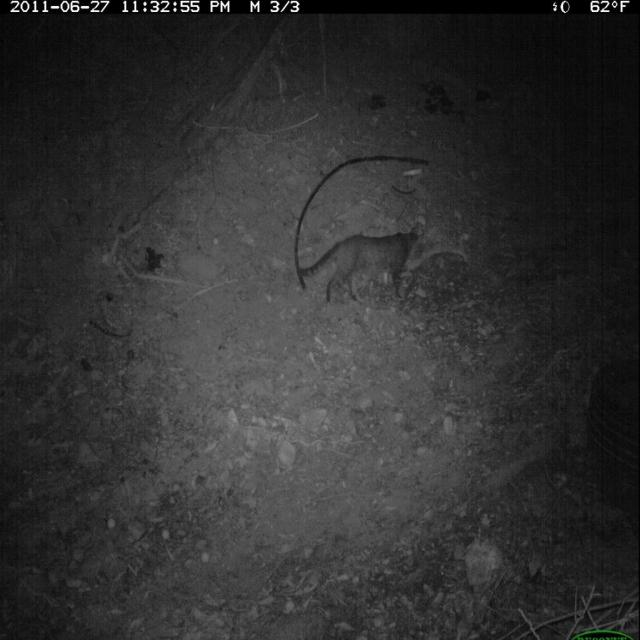cat: (296, 218, 429, 311)
